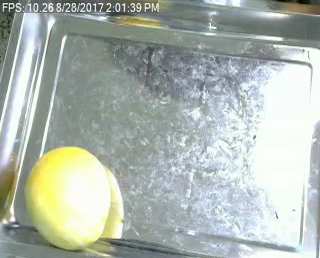Mango: (23, 146, 110, 251)
